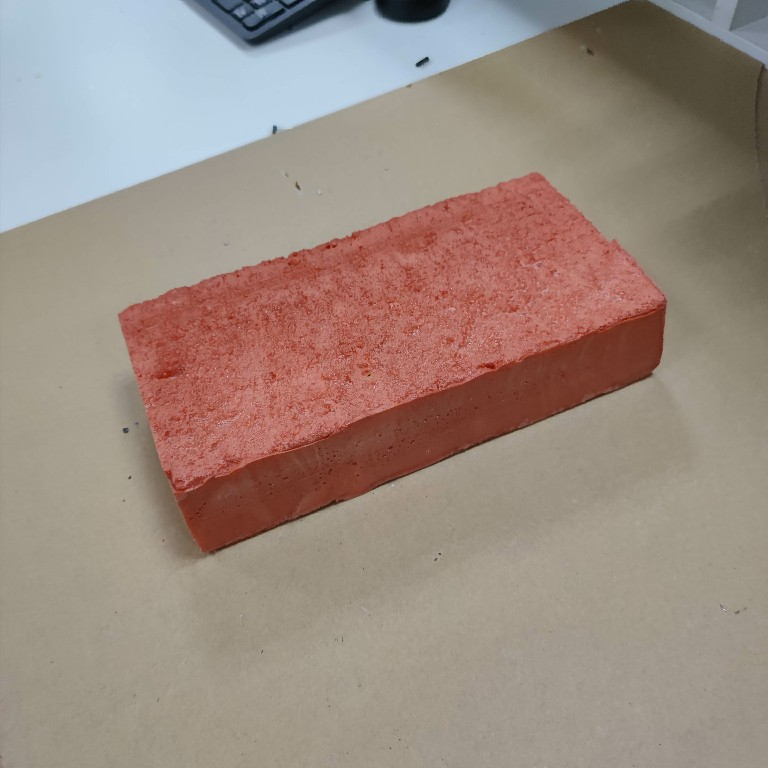brick: (110, 169, 670, 562)
